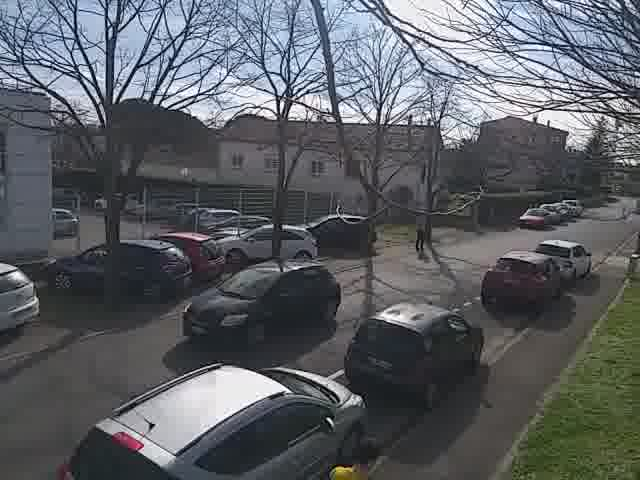persona: (410, 202, 430, 253)
